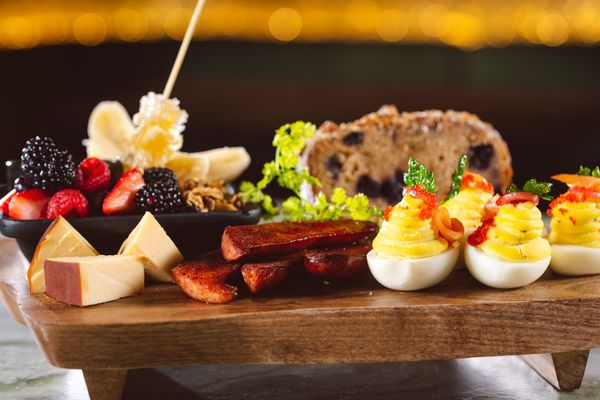sushi: (366, 238, 461, 291)
